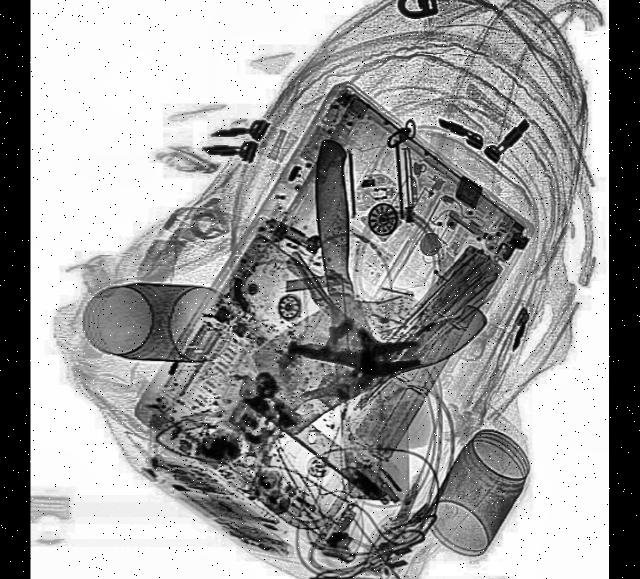Knife: (248, 239, 491, 438), (308, 129, 418, 507)
